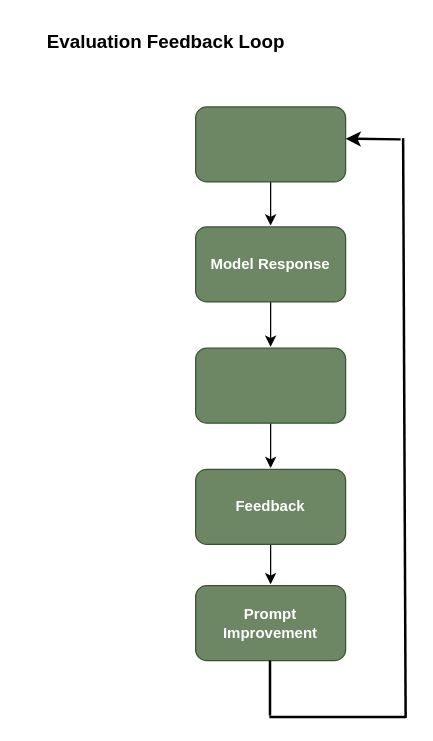
The diagram is 433 pixels wide and 741 high, and some of its shapes have lost their labels. Here are the shapes that lost their labels. From the top down, the box of each, then its label:
(194, 106, 346, 182): Prompt
(194, 347, 346, 423): Evaluation
